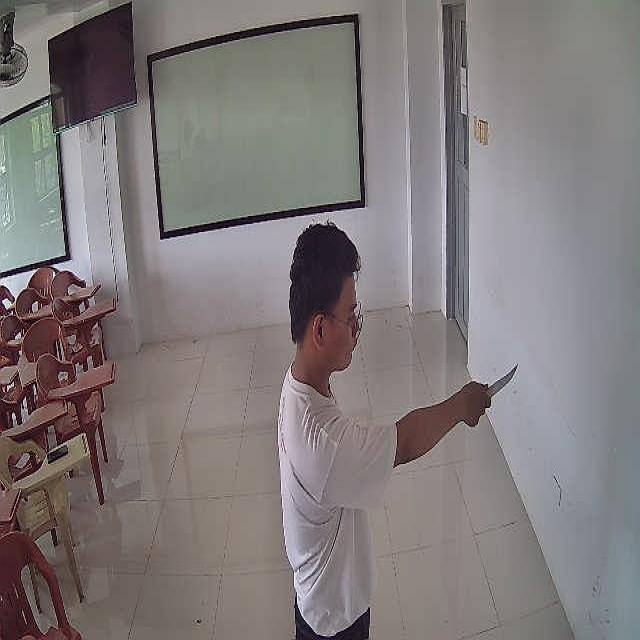knife: (488, 363, 519, 397)
